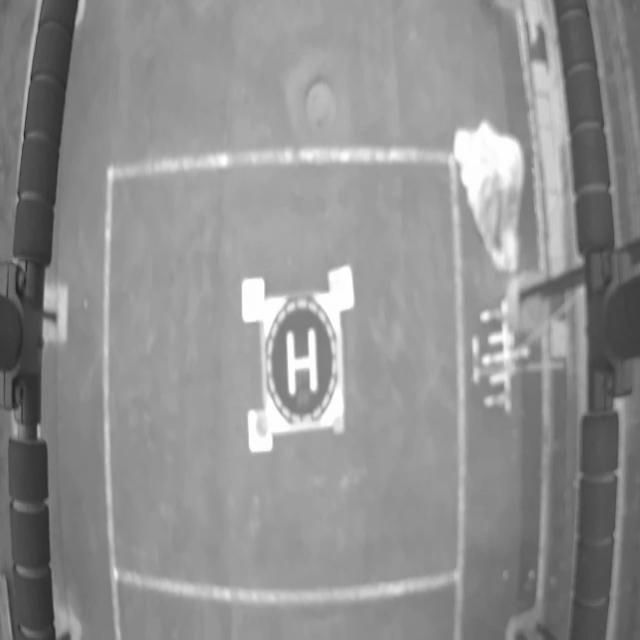Helipad: (285, 325, 319, 400)
